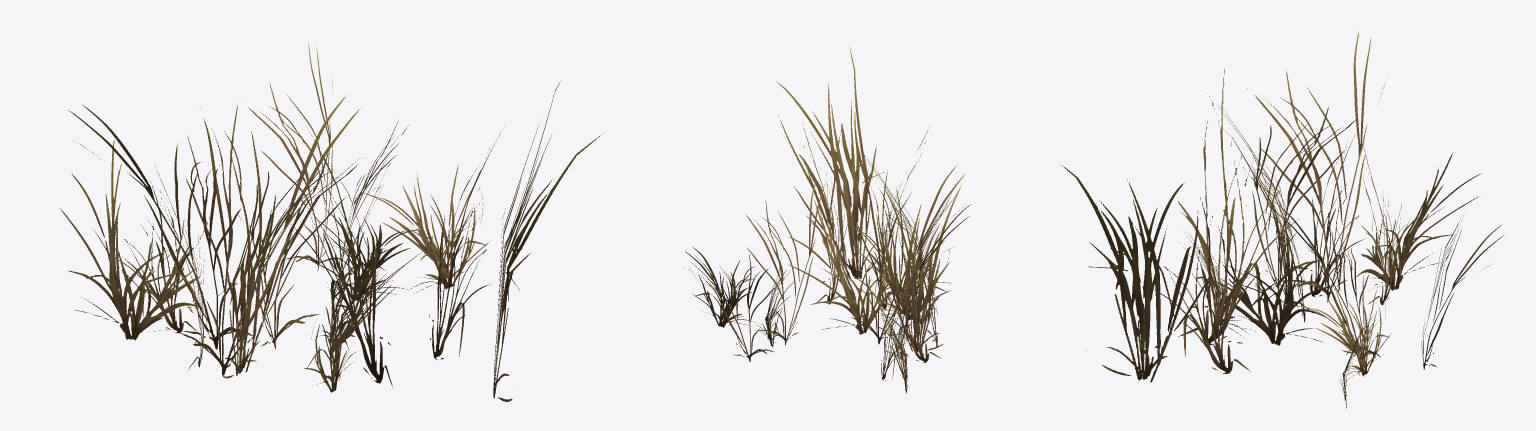
File: gp-gras-2.glb
3 views of the same model, side by side, from view 1: azimuth 30°, elevation 25°; view 2: azimuth 150°, elevation 25°; view 3: azimuth 270°, elevation 25° (orthographic). The views are drawn at different scales.
Parts seen in each view (by area): view 1: gp-gras-2; view 2: gp-gras-2; view 3: gp-gras-2.
Boxes of the visible parts, box(x1,y1,x2,y2) form: gp-gras-2: box(59, 42, 603, 401); gp-gras-2: box(685, 44, 970, 393); gp-gras-2: box(1060, 30, 1504, 408).
Size of the model in its own units: 1.61 by 1.2 by 1.7.
1 material, 1 textured.
